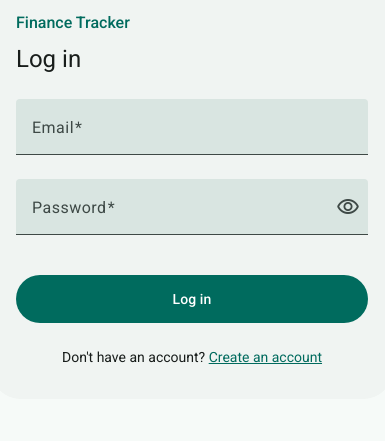
LoginComponent › shows a generic error for other failures
The width and height of the screenshot is (385, 441).
Type "kasia@example.com" into the field labelled "Email" at (192,135), box x1=32 y1=123 x2=352 y2=147
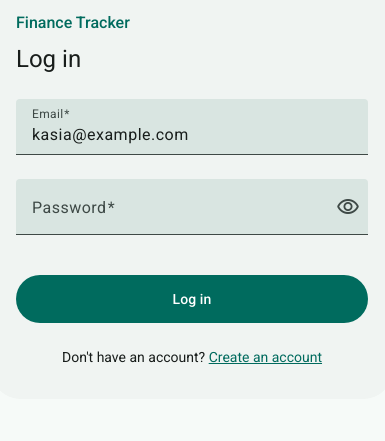
Type "kasia2026" into the password field labelled "Password" at (178,215), box x1=32 y1=203 x2=324 y2=227
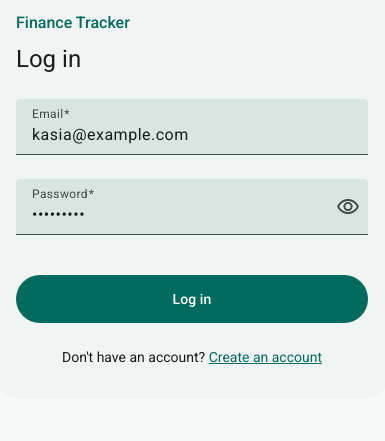
Click the submit button at (192,299), box x1=16 y1=275 x2=368 y2=323
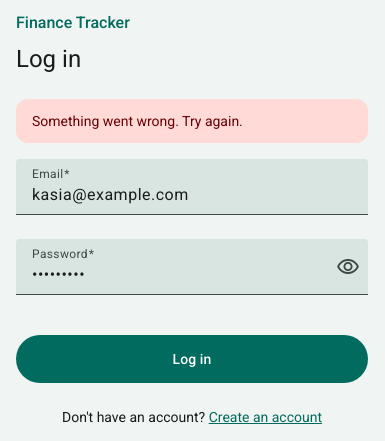
Expected: the message "Something went wrong. Try again." is shown, x1=16 y1=99 x2=368 y2=143
